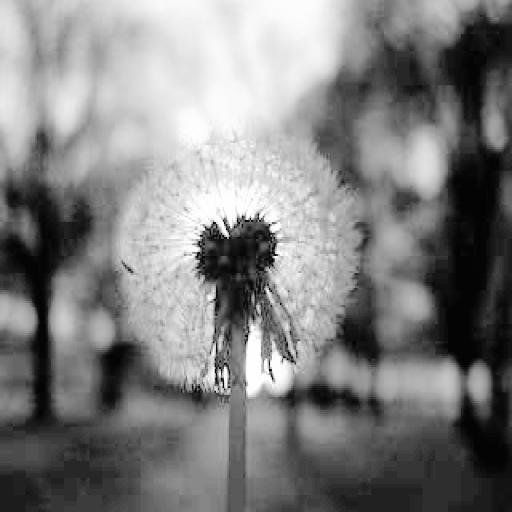dandelion: (125, 128, 360, 397)
